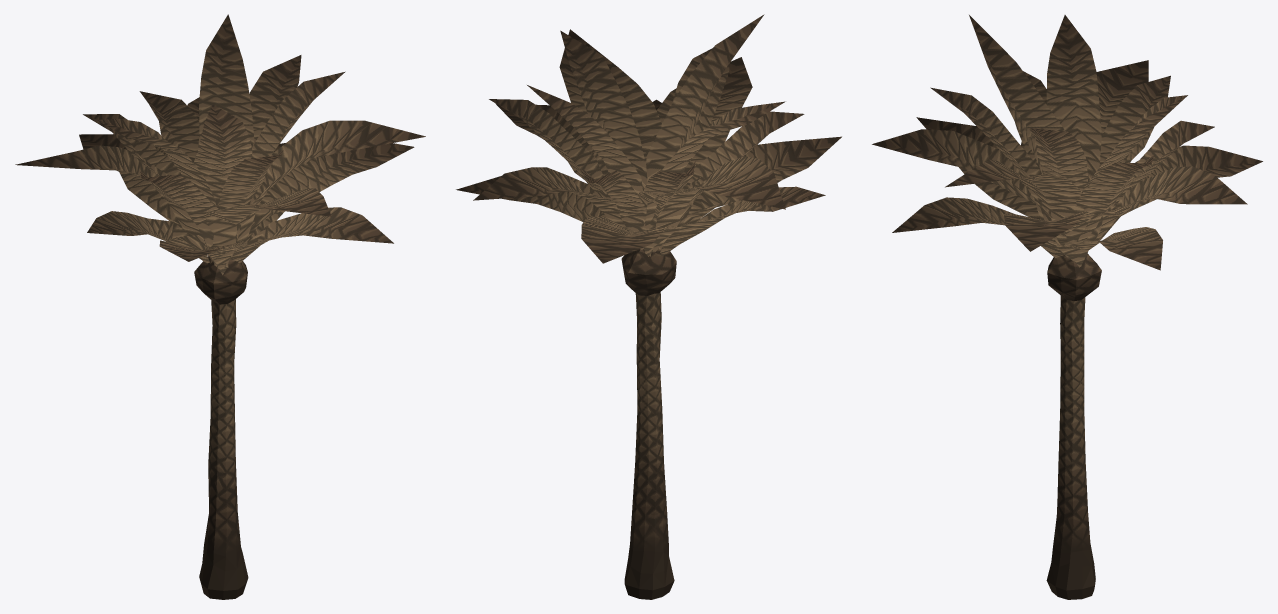
The model's file is SM_Env_Tree_Palm_06.fbx.
The picture shows the model from 3 angles, left to right: view 1: azimuth 30°, elevation 25°; view 2: azimuth 150°, elevation 25°; view 3: azimuth 270°, elevation 25°; orthographic projection. The views are drawn at different scales.
Visible parts, largest first — view 1: SM_Env_Tree_Palm_05_LOD0; view 2: SM_Env_Tree_Palm_05_LOD0; view 3: SM_Env_Tree_Palm_05_LOD0.
Boxes of the visible parts, box(x1,y1,x2,y2) form: SM_Env_Tree_Palm_05_LOD0: box(15, 14, 425, 599); SM_Env_Tree_Palm_05_LOD0: box(456, 14, 841, 599); SM_Env_Tree_Palm_05_LOD0: box(872, 15, 1262, 599).
Size of what is drawn, in the model's own units: 1072 by 1629 by 1053.
